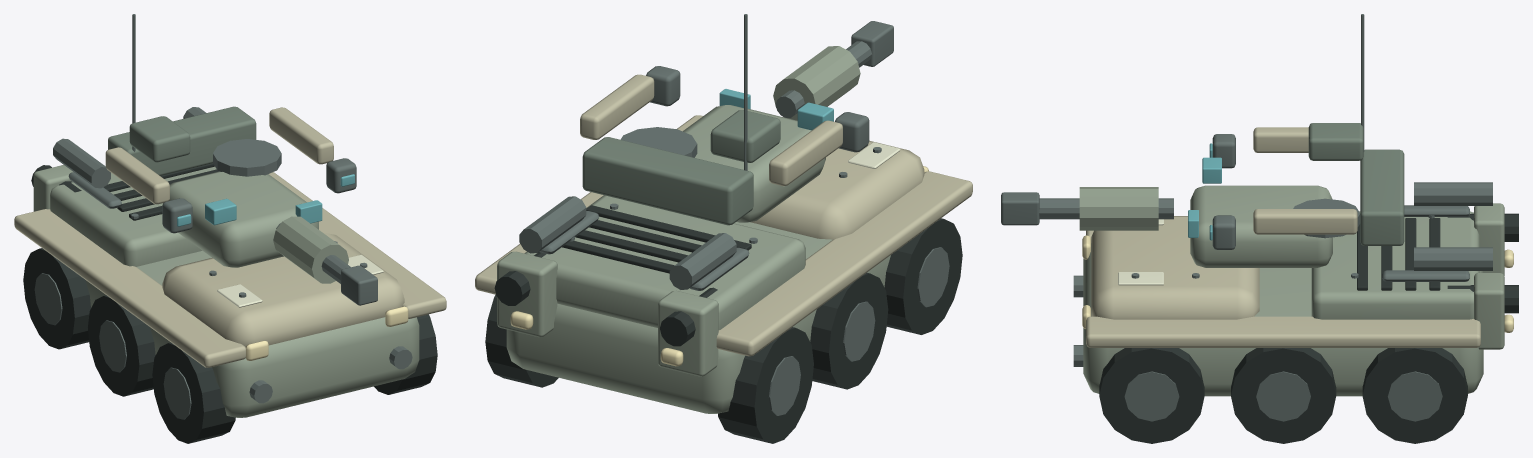
The model's file is scout.glb.
The picture shows the model from 3 angles, left to right: view 1: azimuth 30°, elevation 25°; view 2: azimuth 150°, elevation 25°; view 3: azimuth 270°, elevation 25°; orthographic projection. The views are drawn at different scales.
Parts seen in each view (by area): view 1: Chassis, TurretArmor; view 2: Chassis, TurretArmor; view 3: Chassis, TurretArmor.
Part boxes in pixels (left/top/right/bottom): Chassis: left=14, top=107, right=446, bottom=443; TurretArmor: left=105, top=14, right=377, bottom=305; Chassis: left=475, top=115, right=972, bottom=443; TurretArmor: left=580, top=14, right=893, bottom=225; Chassis: left=1073, top=182, right=1518, bottom=443; TurretArmor: left=1001, top=14, right=1404, bottom=267.
Bounding box in the file's own units: 2.6 × 3.44 × 4.72.
